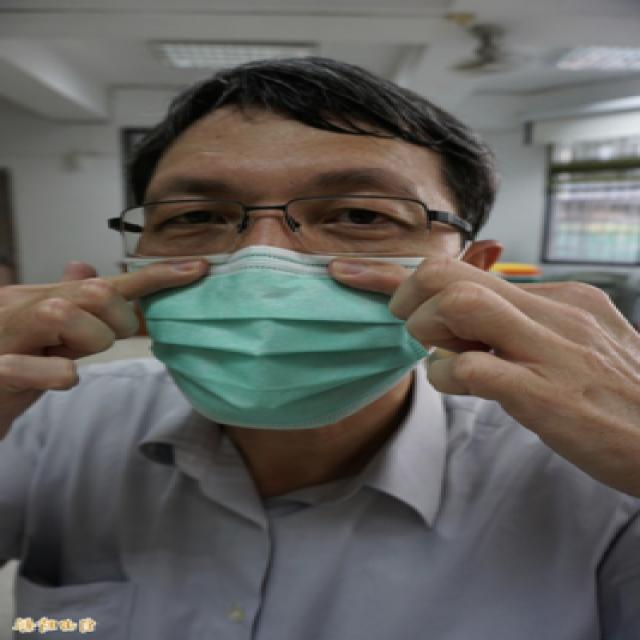mask: (129, 158, 477, 426)
